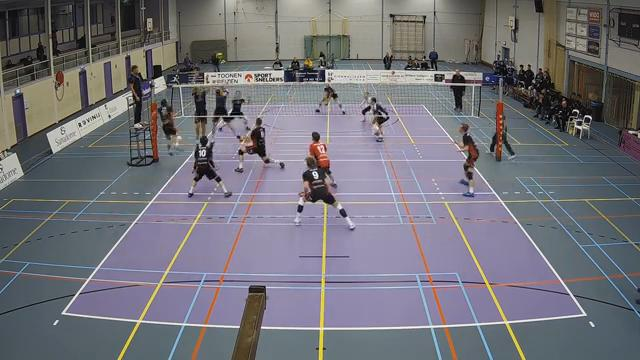Attack: (144, 96, 185, 160)
Block: (212, 75, 244, 148), (190, 73, 210, 147)
Player: (294, 156, 354, 229), (234, 117, 284, 172), (188, 136, 231, 196), (309, 132, 336, 187), (458, 124, 478, 196), (218, 90, 250, 130), (362, 97, 388, 141), (316, 85, 345, 114), (360, 91, 371, 108)
ball: (214, 51, 223, 58)
